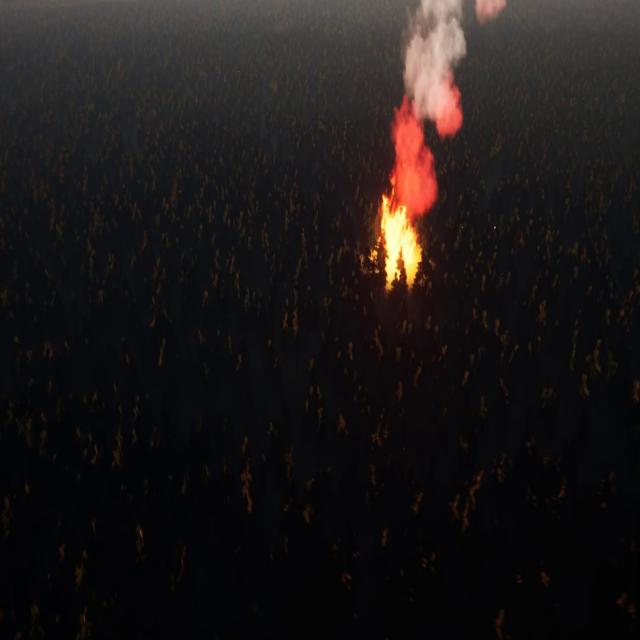fire: (381, 194, 422, 285)
smoke: (392, 0, 508, 206)
